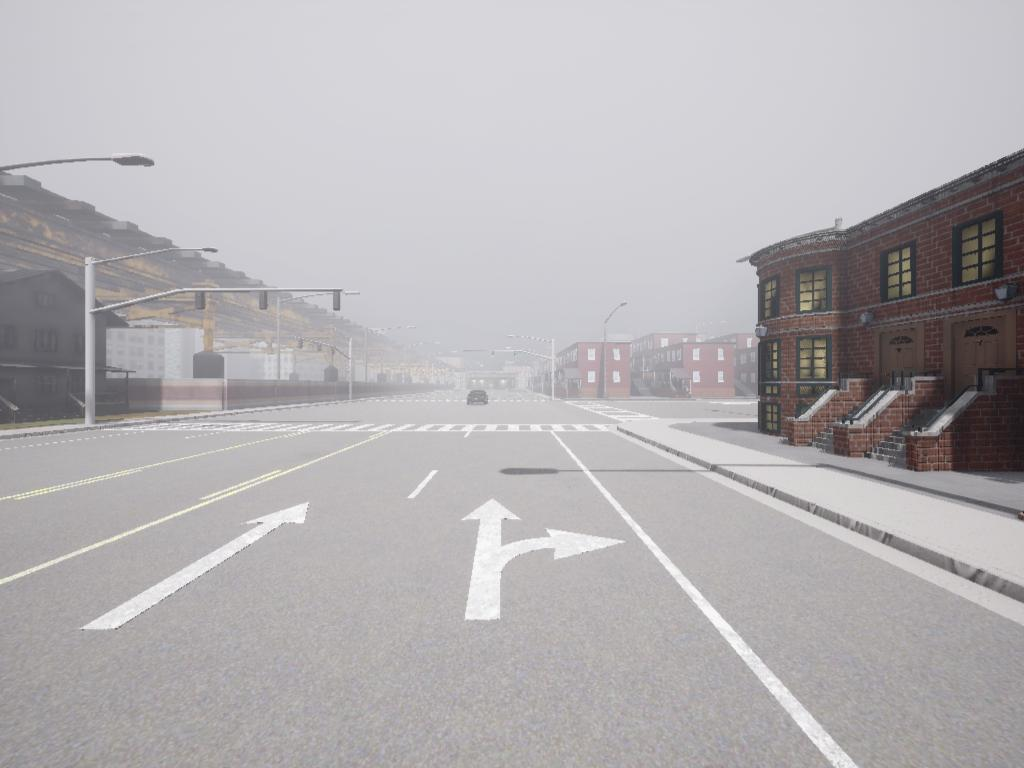traffic_light: (194, 290, 208, 313), (258, 289, 269, 314), (334, 289, 341, 312), (297, 338, 305, 352), (317, 342, 324, 356), (332, 346, 338, 357), (514, 350, 519, 361), (492, 352, 496, 360)
